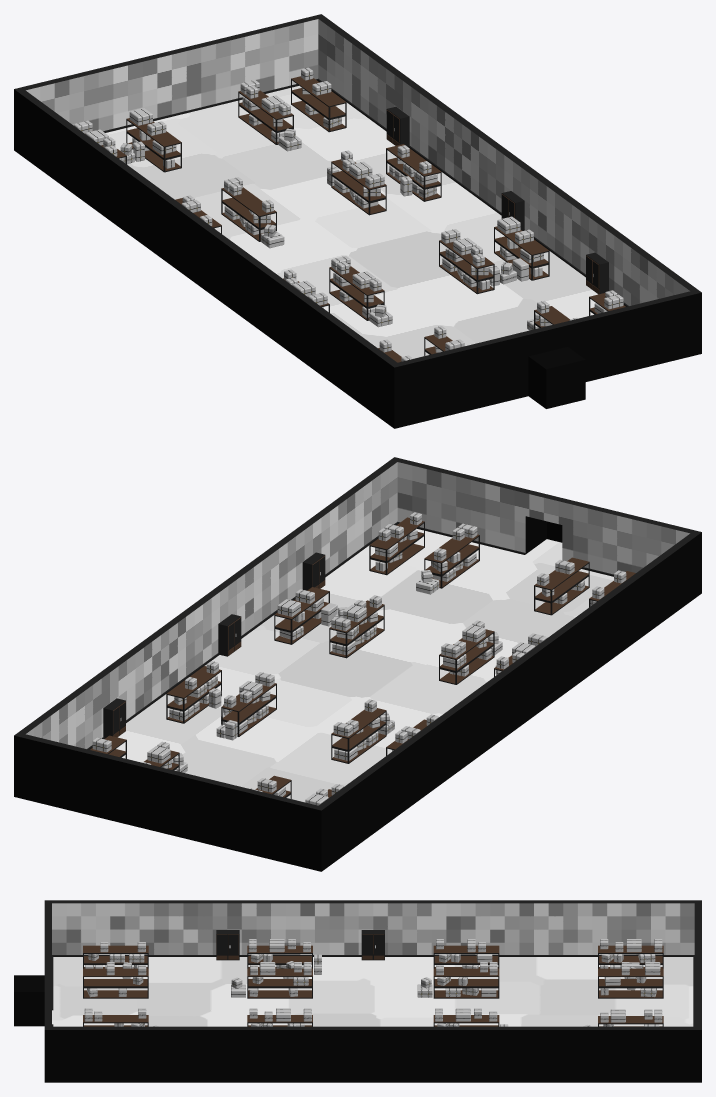
File: Cargo_Room_1x2x1.fbx
3 views of the same model, one above another, from view 1: azimuth 30°, elevation 25°; view 2: azimuth 150°, elevation 25°; view 3: azimuth 270°, elevation 25° (orthographic). The views are drawn at different scales.
Parts seen in each view (by area): view 1: Cargo_Room_1x2x1; view 2: Cargo_Room_1x2x1; view 3: Cargo_Room_1x2x1.
Part boxes in pixels (x1,y1,x2,y2): Cargo_Room_1x2x1: (14, 14, 701, 428); Cargo_Room_1x2x1: (14, 457, 701, 871); Cargo_Room_1x2x1: (14, 900, 701, 1082).
Bounding box in the file's own units: 42 × 94.2 × 8.
